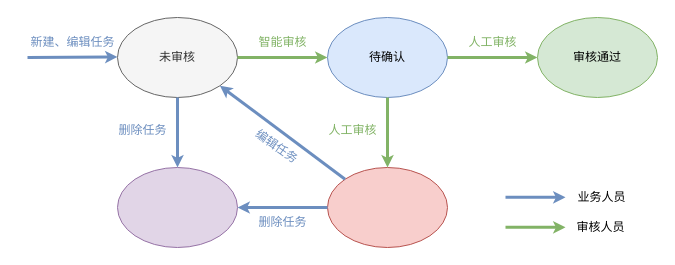
Some shapes in this 675 by 265 pixel diagram are drawn without their labels. The shapes that lost their labels are listed below. From the top down, each one's box as (x1, y1, x2, y2) in pixels, then its label:
(116, 166, 238, 248): 已删除
(326, 166, 448, 248): 未通过
